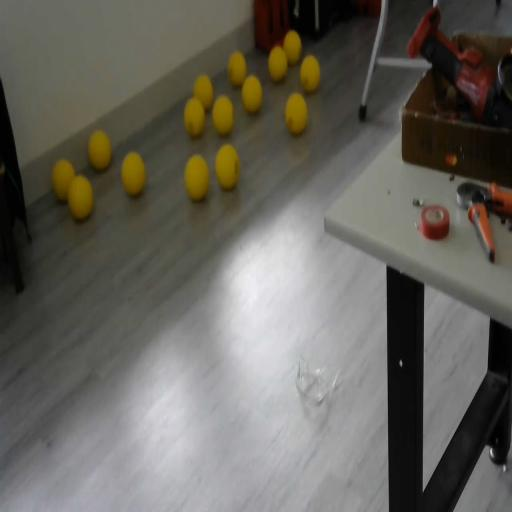FUEL: (183, 153, 210, 203), (66, 174, 94, 221), (120, 151, 146, 196), (215, 144, 239, 190), (284, 91, 308, 135), (87, 129, 112, 171), (183, 96, 206, 138), (212, 94, 234, 136), (241, 73, 263, 114), (300, 54, 320, 92), (282, 28, 302, 65), (227, 50, 247, 87), (268, 45, 288, 82)
